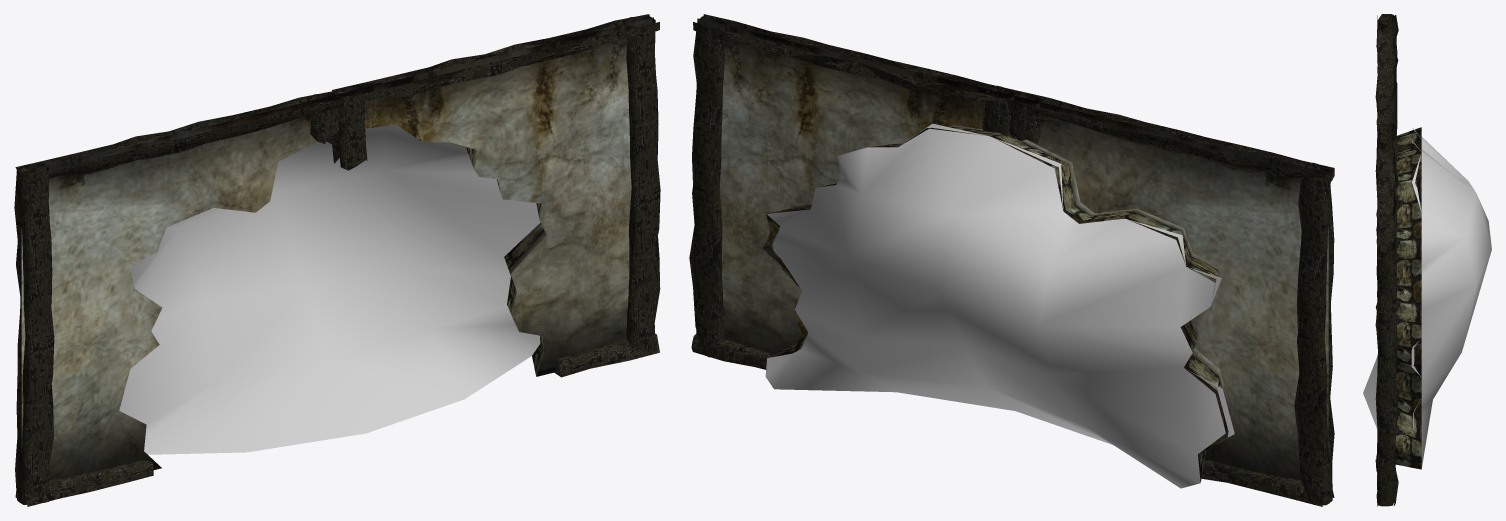
File: default_extension_broken_dirt.dae
3 renders of one model, left to right at view 1: azimuth 30°, elevation 25°; view 2: azimuth 150°, elevation 25°; view 3: azimuth 270°, elevation 25°, orthographic. The views are drawn at different scales.
Visible parts, largest first — view 1: polySurface68, polySurface33, polySurface83, polySurface444, polySurface34; view 2: polySurface68, polySurface33, polySurface83, polySurface444, polySurface34; view 3: polySurface68, polySurface34, polySurface83, polySurface444.
Part boxes in pixels (left/top/right/bottom): polySurface68: left=119, top=125, right=540, bottom=454; polySurface33: left=21, top=17, right=653, bottom=480; polySurface83: left=14, top=15, right=660, bottom=504; polySurface444: left=15, top=14, right=659, bottom=506; polySurface34: left=465, top=147, right=546, bottom=376; polySurface68: left=765, top=123, right=1234, bottom=488; polySurface33: left=697, top=18, right=1328, bottom=480; polySurface83: left=689, top=15, right=1334, bottom=505; polySurface444: left=691, top=14, right=1334, bottom=506; polySurface34: left=763, top=125, right=1230, bottom=481; polySurface68: left=1363, top=128, right=1491, bottom=468; polySurface34: left=1395, top=127, right=1421, bottom=469; polySurface83: left=1375, top=14, right=1398, bottom=506; polySurface444: left=1375, top=15, right=1398, bottom=506.
Bounding box in the file's own units: 8.09 × 4 × 1.84.
